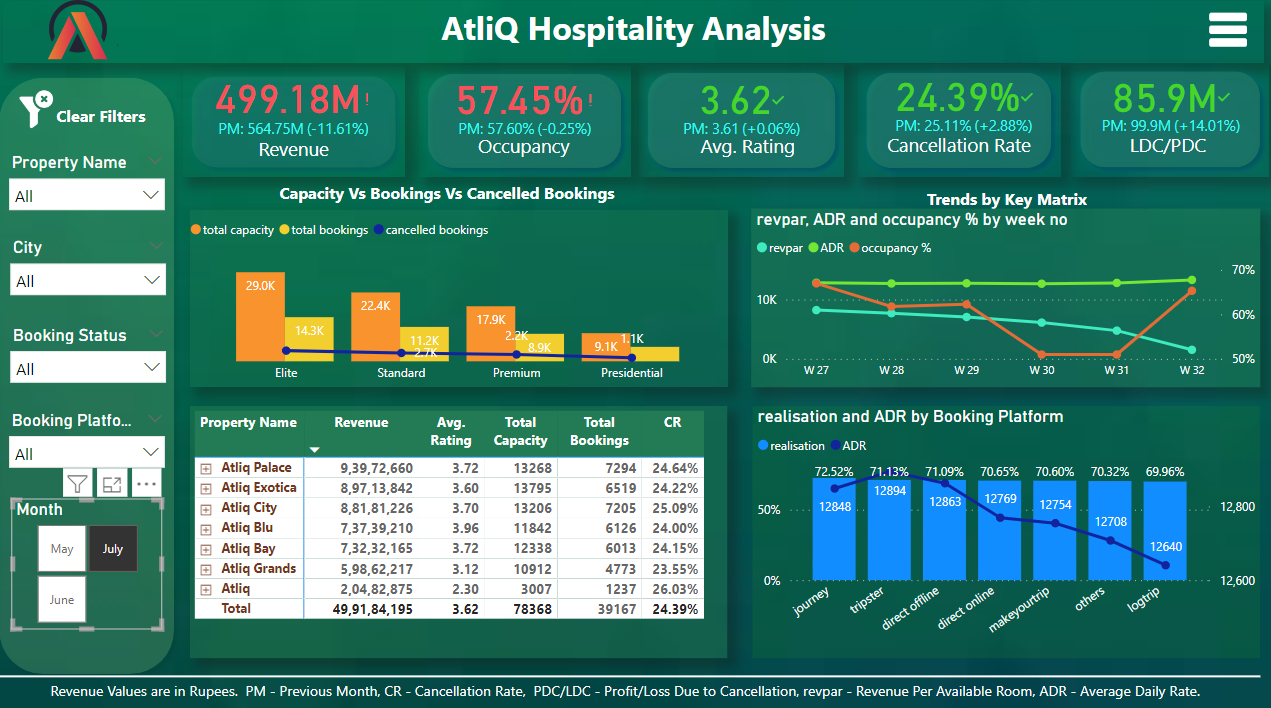

The page's visual inventory and layout, read from the dashboard file:
{"tool":"powerbi","page":{"name":"Overall Analysis","canvas":[1280,720],"ordinal":0},"visuals":[{"type":"image","box":[0,0,1280,720],"z":0},{"type":"shape","box":[12.1,12.1,1253.1,63.9],"z":1000},{"type":"textbox","box":[12.1,9.4,1257.4,61.9],"z":2000},{"type":"image","title":"atliq","box":[36.2,0,96.5,77.2],"z":4000},{"type":"shape","box":[0,77.1,191.4,610],"z":5000},{"type":"slicer","fields":{"Values":["dim_hotels.city"]},"box":[9.6,240,174.9,67.5],"z":6000},{"type":"slicer","fields":{"Values":["fact_bookings.booking_status"]},"box":[9.6,326.8,174.9,67.5],"z":7000},{"type":"slicer","fields":{"Values":["fact_bookings.booking_platform"]},"box":[8.4,411.3,174.9,67.5],"z":8000},{"type":"slicer","fields":{"Values":["dim_date.mmm yy.Variation.Date Hierarchy.Month"]},"box":[9.6,495.7,174.9,67.5],"z":9000},{"type":"slicer","fields":{"Values":["dim_hotels.property_name"]},"box":[8.4,155.6,174.9,67.5],"z":10000},{"type":"slicer","fields":{"Values":["dim_date.week no"]},"box":[7.2,584.9,176.1,67.5],"z":11000},{"type":"shape","box":[8.4,671.8,1253.1,18.1],"z":12000},{"type":"textbox","box":[190.6,681.4,1026.3,28.9],"z":13000},{"type":"shape","box":[190.6,76,220.7,108.5],"z":14000},{"type":"card","fields":{"Values":["key_measures.revenue"]},"box":[214.7,85.6,173.7,47],"z":15000},{"type":"textbox","box":[214.7,132.7,173.7,38.6],"z":16000},{"type":"shape","box":[425.7,72.9,210,111.4],"z":17000},{"type":"shape","box":[644.3,71.4,204.3,112.9],"z":18000},{"type":"shape","box":[861.4,71.4,201.4,112.9],"z":19000},{"type":"shape","box":[1073.4,71.2,196.6,113.4],"z":20000},{"type":"card","fields":{"Values":["key_measures.occupancy %"]},"box":[436.6,77.2,189.3,54.3],"z":21000},{"type":"textbox","box":[436.6,127.8,189.3,43.4],"z":22000},{"type":"card","fields":{"Values":["key_measures.average rating"]},"box":[652.5,83.2,186.9,48.2],"z":23000},{"type":"textbox","box":[652.5,131.5,189.3,42.2],"z":24000},{"type":"card","fields":{"Values":["key_measures.CR"]},"box":[846.6,88,231.6,55.5],"z":25000},{"type":"textbox","box":[867.1,135.1,189.3,42.2],"z":26000},{"type":"card","fields":{"Values":["key_measures.Loss/Profit due to cancellation"]},"box":[1078.1,72.9,169.1,61.9],"z":27000},{"type":"textbox","box":[1073.4,135.1,191.8,38.6],"z":28000},{"type":"clusteredBarChart","title":"Revenue ","fields":{"Category":["dim_hotels.city"],"Y":["key_measures.revenue"]},"box":[191.4,221.4,190,164.3],"z":30000},{"type":"clusteredBarChart","title":"Occupancy % ","fields":{"Category":["dim_hotels.city"],"Y":["key_measures.occupancy %"]},"box":[590,221.4,194.3,165.7],"z":31000},{"type":"clusteredBarChart","title":"Average Rating","fields":{"Category":["dim_hotels.city"],"Y":["key_measures.average rating"]},"box":[392.9,221.4,188.6,165.7],"z":32000},{"type":"textbox","box":[190.6,190.6,594.6,32.6],"z":33000},{"type":"areaChart","fields":{"Category":["dim_date.week no"],"Y":["key_measures.revenue"],"Y2":["key_measures.average rating"]},"box":[797.1,220,467.1,168.6],"z":34000},{"type":"textbox","box":[900.9,190.6,312.4,31.4],"z":35000},{"type":"pivotTable","fields":{"Rows":["dim_hotels.property_name","dim_hotels.city"],"Values":["key_measures.revenue","key_measures.average rating","key_measures.occupancy %","key_measures.total bookings","key_measures.CR","key_measures.total cancelled bookings","key_measures.total capacity"]},"box":[184.3,425.7,655.7,235.7],"z":36000},{"type":"textbox","box":[373.9,394.4,312.4,31.4],"z":37000},{"type":"clusteredBarChart","title":"Bookings by Platform","fields":{"Category":["fact_bookings.booking_platform"],"Y":["key_measures.total bookings"]},"box":[848.6,410,208.6,261.4],"z":38000},{"type":"donutChart","title":"Occupancy Ratio","fields":{"Category":["dim_date.day_type"],"Y":["key_measures.occupancy %"]},"box":[1062.9,410,207.1,261.4],"z":39000},{"type":"image","box":[22.9,88.6,47.1,58.6],"z":40000},{"type":"textbox","box":[61.4,108.6,130,44.3],"z":41000},{"type":"image","title":"three dot menu","box":[1198.2,14.8,63.2,47.1],"z":45500}]}

Visuals, with their boxes in screenshot pixels (x1, y1, x2, y2), scaled from the page's 1280x720 canvas onto the 1271x708 screenshot:
image: pyautogui.locateOnScreen(0, 0, 1270, 707)
shape: pyautogui.locateOnScreen(12, 12, 1256, 75)
textbox: pyautogui.locateOnScreen(12, 9, 1261, 70)
"atliq" image: pyautogui.locateOnScreen(36, 0, 132, 76)
shape: pyautogui.locateOnScreen(0, 76, 190, 676)
slicer - dim_hotels.city: pyautogui.locateOnScreen(10, 236, 183, 302)
slicer - fact_bookings.booking_status: pyautogui.locateOnScreen(10, 321, 183, 388)
slicer - fact_bookings.booking_platform: pyautogui.locateOnScreen(8, 404, 182, 471)
slicer - dim_date.mmm yy.Variation.Date Hierarchy.Month: pyautogui.locateOnScreen(10, 487, 183, 554)
slicer - dim_hotels.property_name: pyautogui.locateOnScreen(8, 153, 182, 219)
slicer - dim_date.week no: pyautogui.locateOnScreen(7, 575, 182, 642)
shape: pyautogui.locateOnScreen(8, 661, 1253, 678)
textbox: pyautogui.locateOnScreen(189, 670, 1208, 698)
shape: pyautogui.locateOnScreen(189, 75, 408, 181)
card - key_measures.revenue: pyautogui.locateOnScreen(213, 84, 386, 130)
textbox: pyautogui.locateOnScreen(213, 130, 386, 168)
shape: pyautogui.locateOnScreen(423, 72, 631, 181)
shape: pyautogui.locateOnScreen(640, 70, 843, 181)
shape: pyautogui.locateOnScreen(855, 70, 1055, 181)
shape: pyautogui.locateOnScreen(1066, 70, 1261, 182)
card - key_measures.occupancy %: pyautogui.locateOnScreen(434, 76, 621, 129)
textbox: pyautogui.locateOnScreen(434, 126, 621, 168)
card - key_measures.average rating: pyautogui.locateOnScreen(648, 82, 833, 129)
textbox: pyautogui.locateOnScreen(648, 129, 836, 171)
card - key_measures.CR: pyautogui.locateOnScreen(841, 87, 1071, 141)
textbox: pyautogui.locateOnScreen(861, 133, 1049, 174)
card - key_measures.Loss/Profit due to cancellation: pyautogui.locateOnScreen(1071, 72, 1238, 133)
textbox: pyautogui.locateOnScreen(1066, 133, 1256, 171)
"Revenue " clusteredBarChart: pyautogui.locateOnScreen(190, 218, 379, 379)
"Occupancy % " clusteredBarChart: pyautogui.locateOnScreen(586, 218, 779, 381)
"Average Rating" clusteredBarChart: pyautogui.locateOnScreen(390, 218, 577, 381)
textbox: pyautogui.locateOnScreen(189, 187, 780, 219)
areaChart - dim_date.week no x key_measures.revenue: pyautogui.locateOnScreen(791, 216, 1255, 382)
textbox: pyautogui.locateOnScreen(895, 187, 1205, 218)
pivotTable - dim_hotels.property_name x dim_hotels.city: pyautogui.locateOnScreen(183, 419, 834, 650)
textbox: pyautogui.locateOnScreen(371, 388, 681, 419)
"Bookings by Platform" clusteredBarChart: pyautogui.locateOnScreen(843, 403, 1050, 660)
"Occupancy Ratio" donutChart: pyautogui.locateOnScreen(1055, 403, 1261, 660)
image: pyautogui.locateOnScreen(23, 87, 70, 145)
textbox: pyautogui.locateOnScreen(61, 107, 190, 150)
"three dot menu" image: pyautogui.locateOnScreen(1190, 15, 1253, 61)
